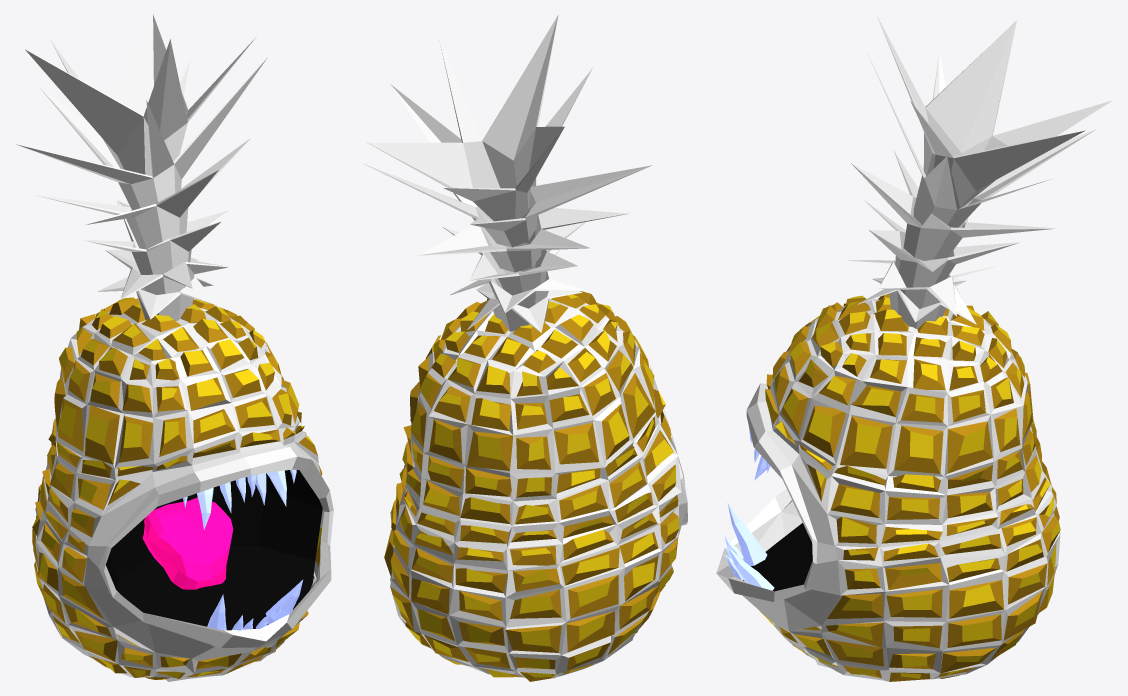
The model's file is pineapple enemy.glb.
The picture shows the model from 3 angles, left to right: view 1: azimuth 30°, elevation 25°; view 2: azimuth 150°, elevation 25°; view 3: azimuth 270°, elevation 25°; orthographic projection.
Visible parts, largest first — view 1: Body Base; view 2: Body Base; view 3: Body Base.
Part boxes in pixels (x1,y1,x2,y2): Body Base: [14, 14, 333, 681]; Body Base: [363, 14, 687, 681]; Body Base: [716, 15, 1112, 681].
Bounding box in the file's own units: 1.17 × 2.67 × 1.5.
